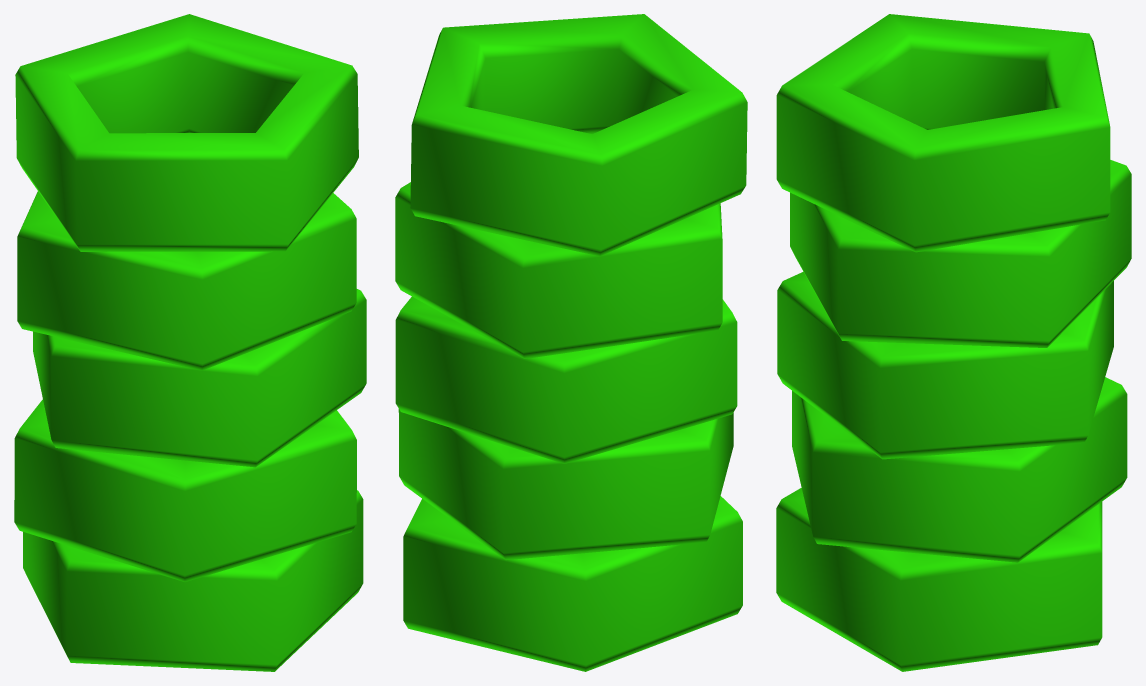
Rendered from Tire_Pile_02_Lod2.fbx.
The picture shows the model from 3 angles, left to right: view 1: azimuth 30°, elevation 25°; view 2: azimuth 150°, elevation 25°; view 3: azimuth 270°, elevation 25°; orthographic projection.
Parts seen in each view (by area): view 1: Tire_Pile_02_Lod2; view 2: Tire_Pile_02_Lod2; view 3: Tire_Pile_02_Lod2.
Part boxes in pixels (x1=…): Tire_Pile_02_Lod2: x1=14, y1=14, x2=366, y2=671; Tire_Pile_02_Lod2: x1=395, y1=14, x2=747, y2=671; Tire_Pile_02_Lod2: x1=776, y1=14, x2=1131, y2=671.
Size of the model in its own units: 77.87 by 124 by 76.34.
